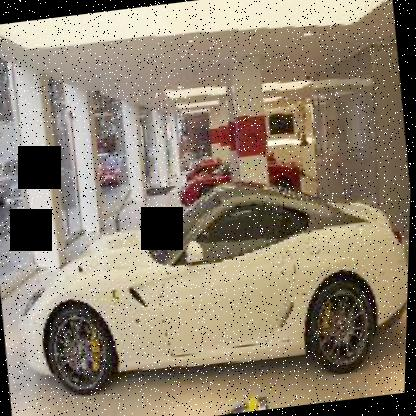not_emergency: (0, 170, 411, 404)
